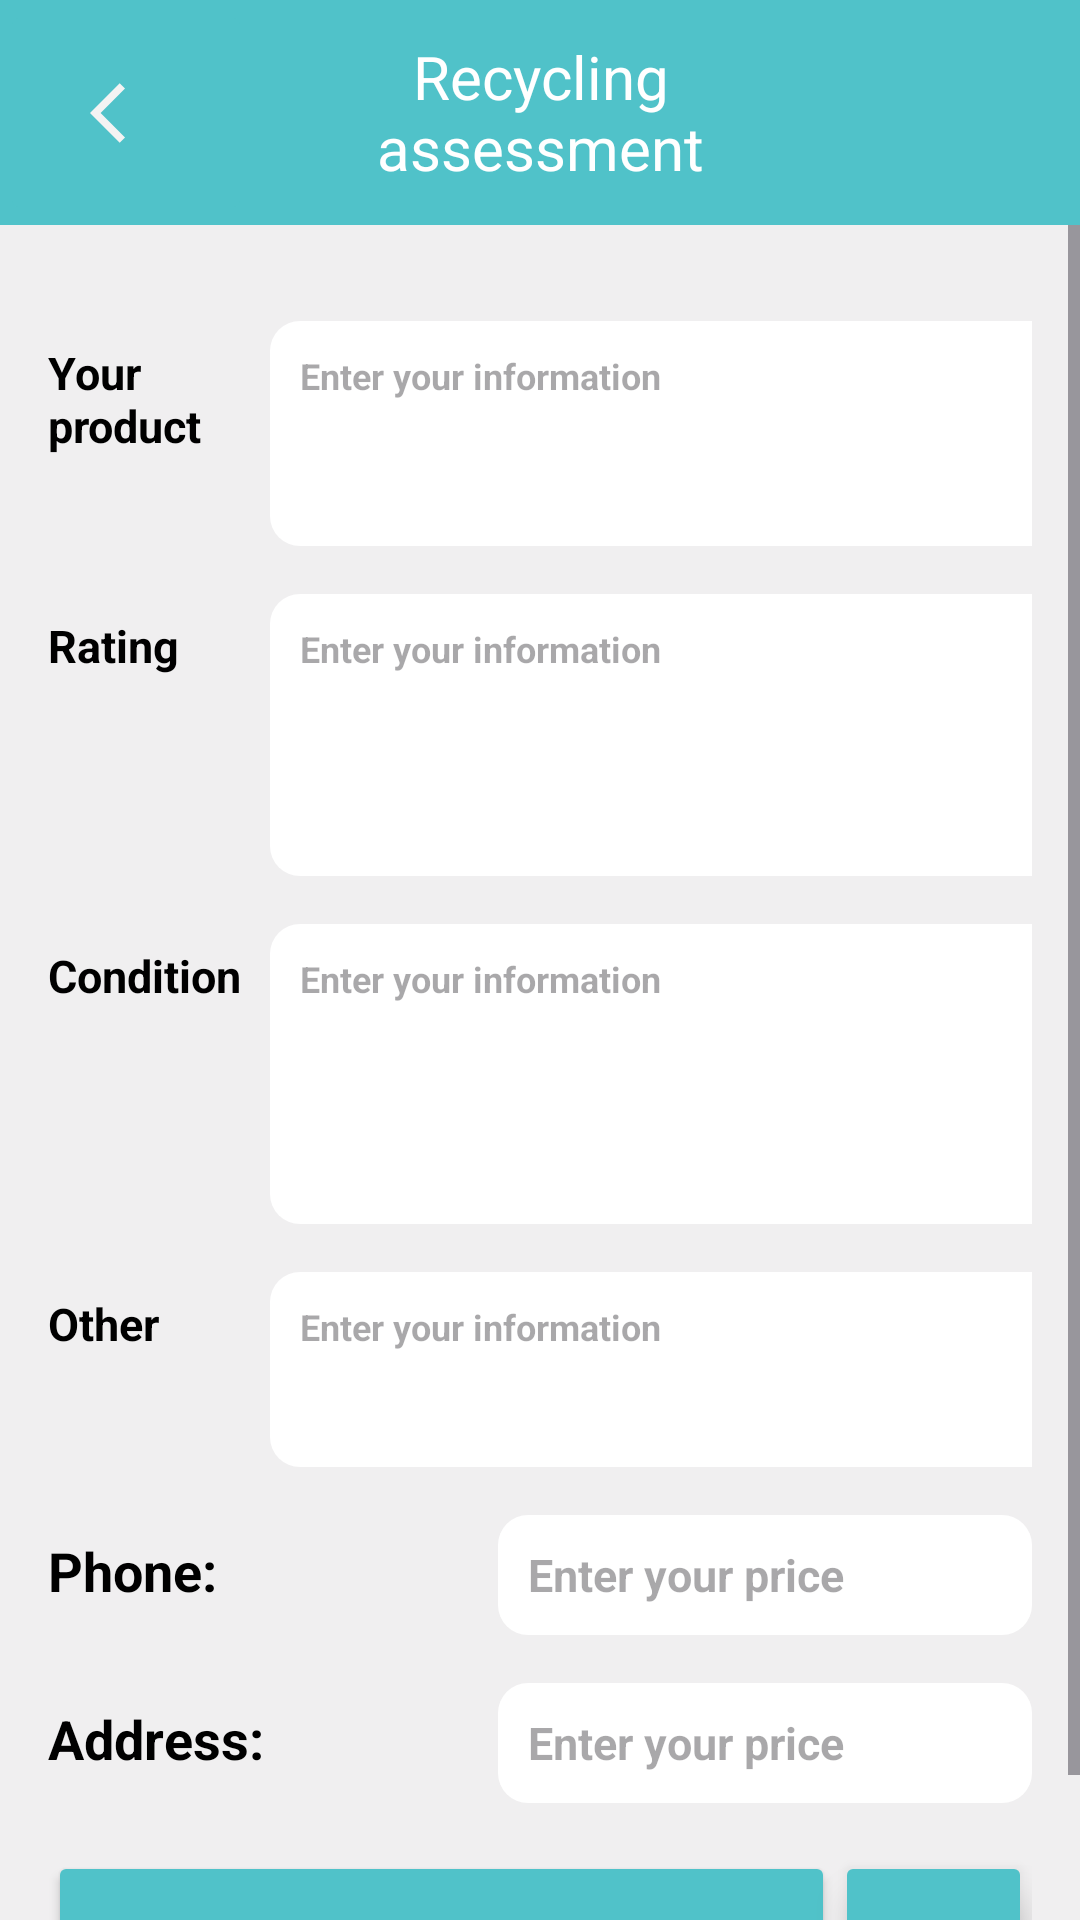

Icons on this 1080w x 1920h Android screen, each with its box as (x1, y1, x2, y2):
arrow left: (90, 83, 125, 143)
